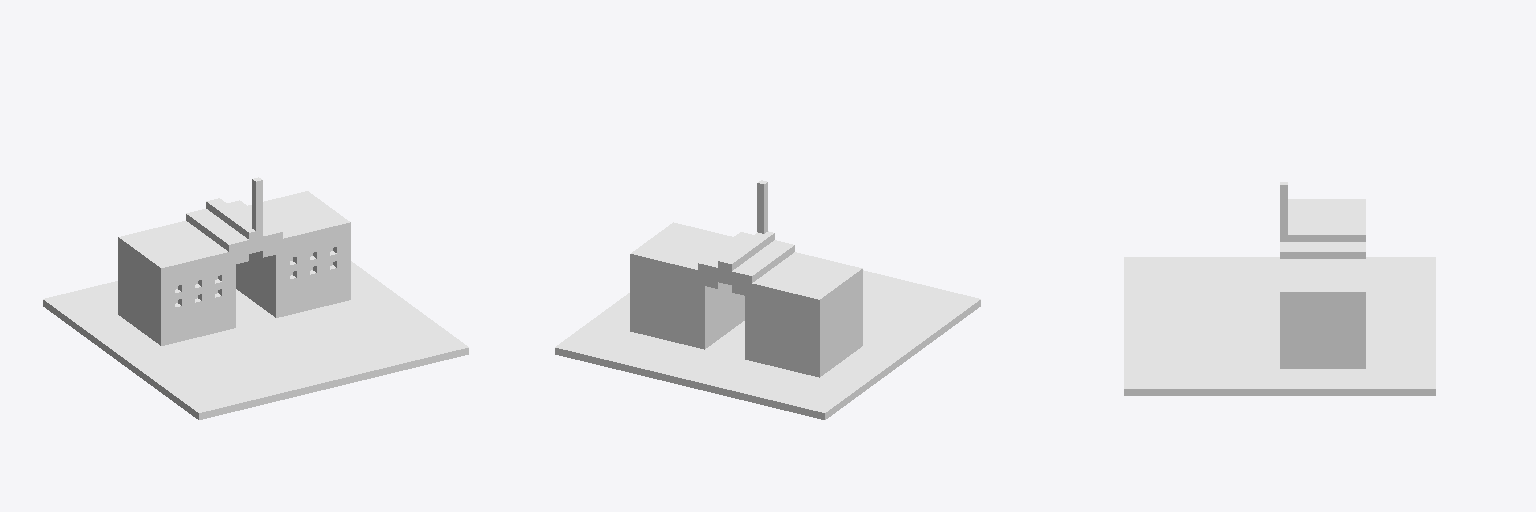
Rendered from castillitoX.obj.
The picture shows the model from 3 angles: view 1: azimuth 30°, elevation 25°; view 2: azimuth 150°, elevation 25°; view 3: azimuth 270°, elevation 25°; orthographic projection.
Size of the model in its own units: 40 by 21 by 40.